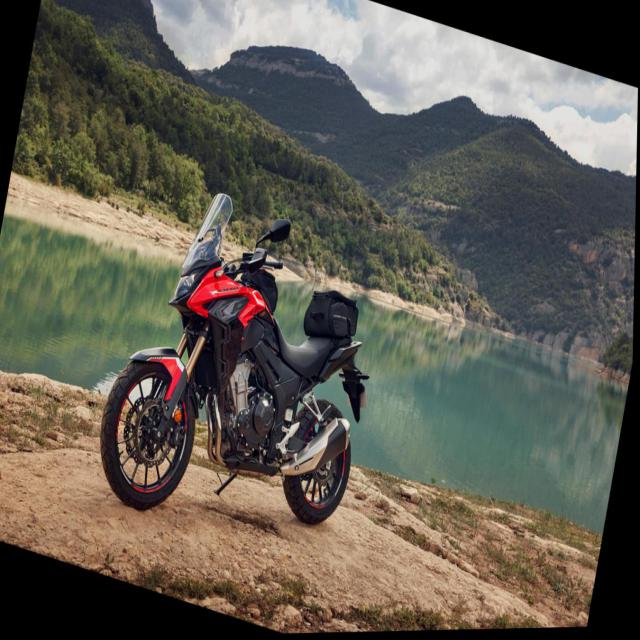CB500X: (88, 163, 394, 584)
